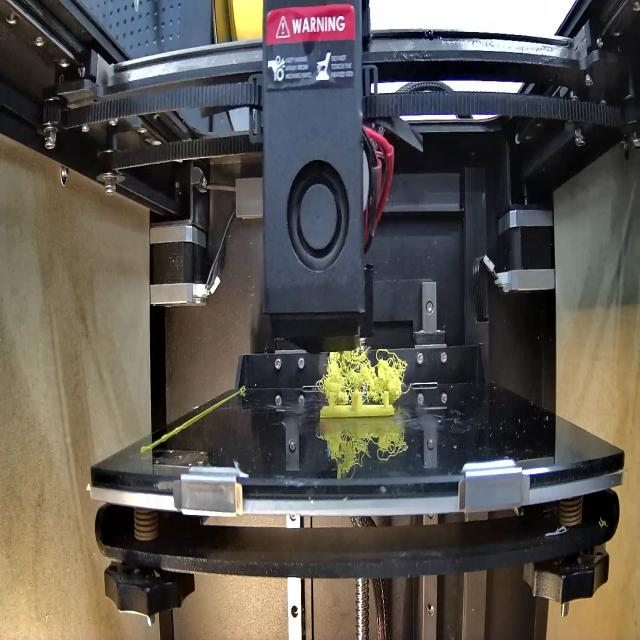spaghetti: (319, 339, 407, 406)
